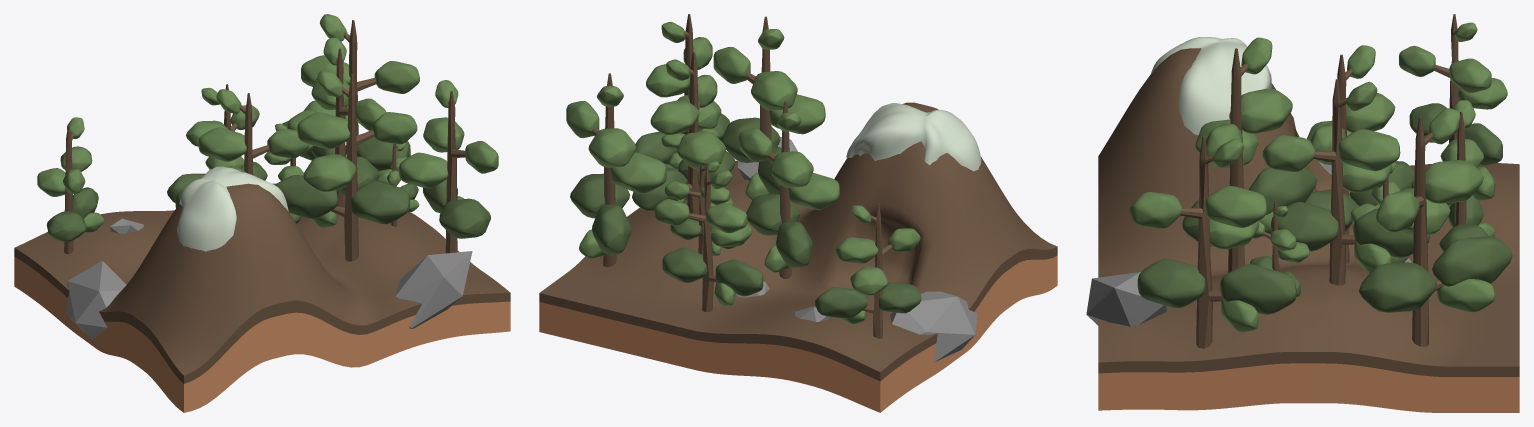
The model's file is Forest landmark.fbx.
The picture shows the model from 3 angles, left to right: view 1: azimuth 30°, elevation 25°; view 2: azimuth 150°, elevation 25°; view 3: azimuth 270°, elevation 25°; orthographic projection. The views are drawn at different scales.
Visible parts, largest first — view 1: pPlatonic40; view 2: pPlatonic40; view 3: pPlatonic40.
Part boxes in pixels (x1,y1,x2,y2): pPlatonic40: (14, 14, 510, 412); pPlatonic40: (539, 14, 1057, 412); pPlatonic40: (1086, 14, 1519, 412).
Size of the model in its own units: 1.76 by 1.12 by 1.45.
